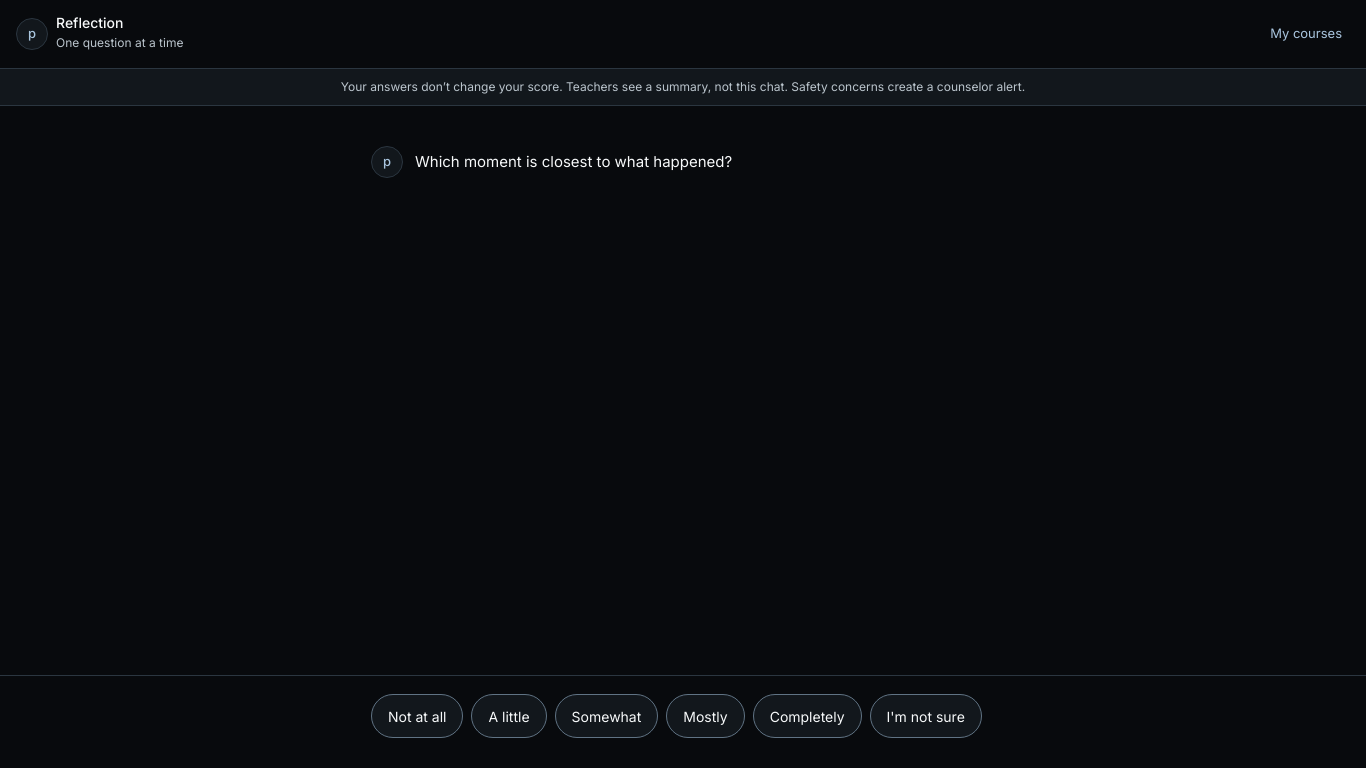
Test case: ChatFlow › sends a quick response and appends the next turn
Click the button "Somewhat".
click(606, 716)  # box left=555, top=694, right=658, bottom=738
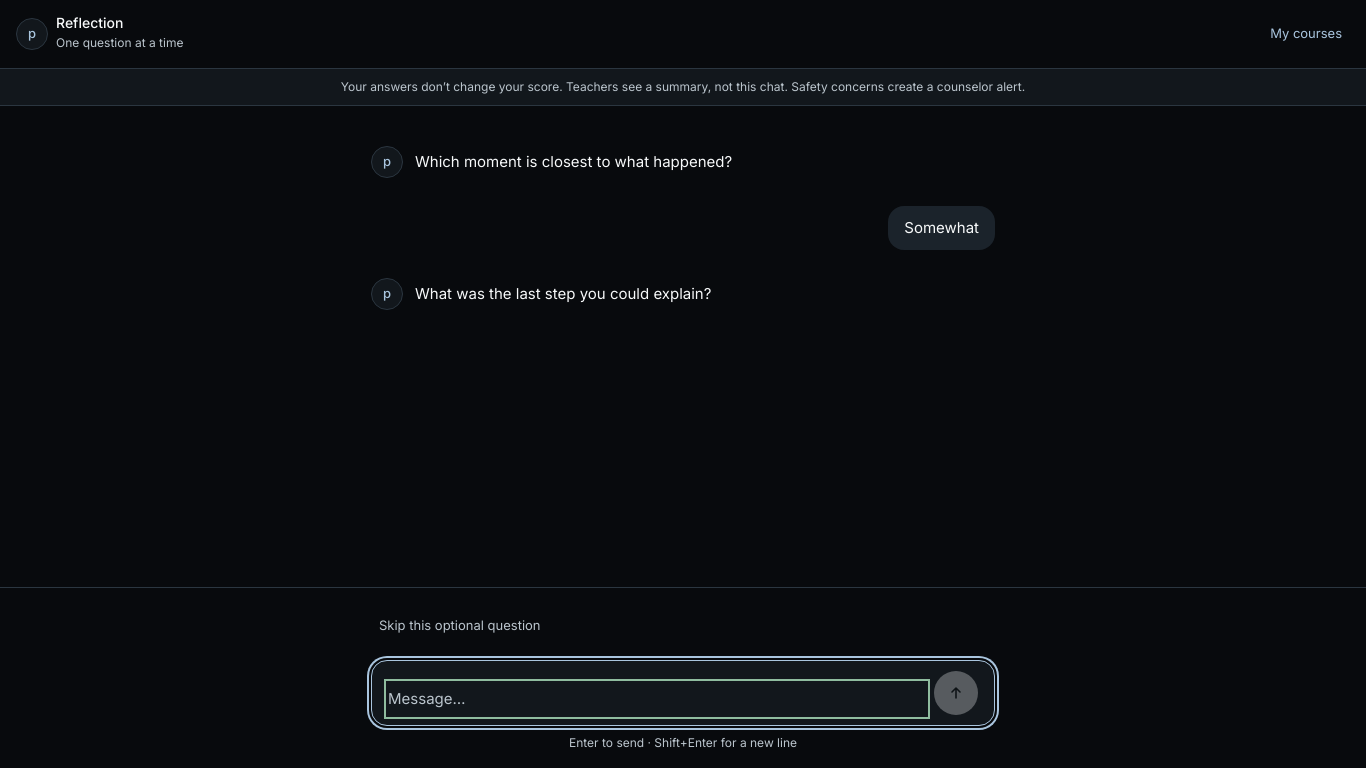
Expected: the text "What was the last step you could explain?" is shown, left=415, top=284, right=711, bottom=303
Expected: the text "Somewhat" is shown once, left=888, top=206, right=995, bottom=250
